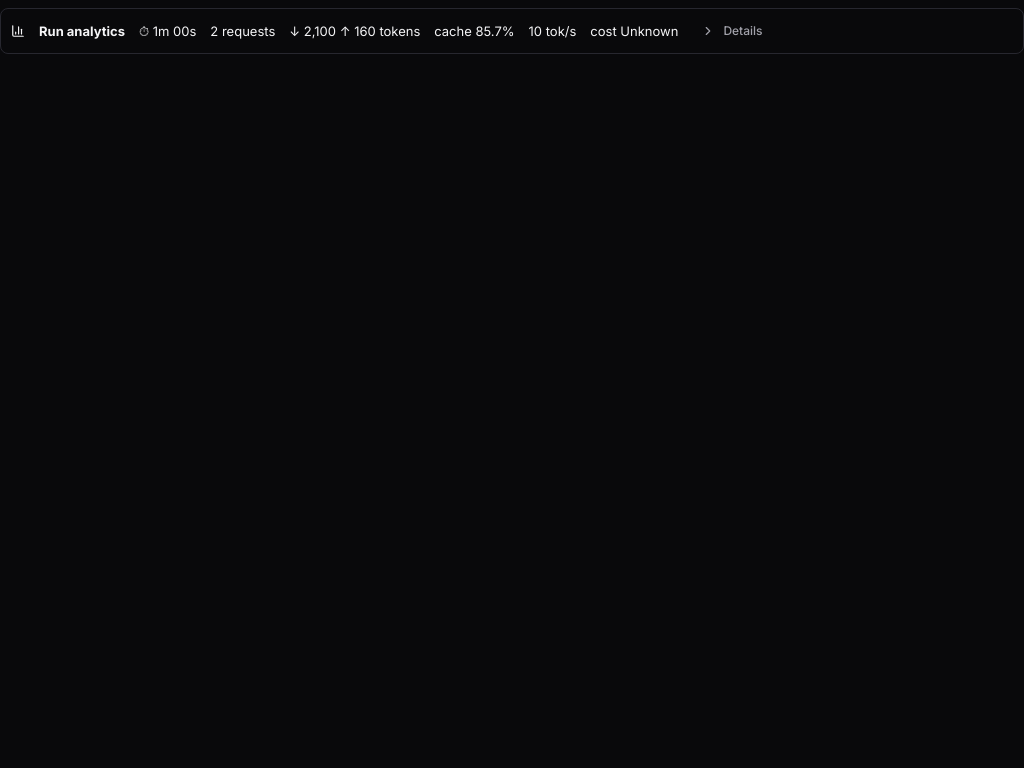
Run Analytics (M4.6) › export copies the versioned document and saving reports the path
Click the button "Details": [732, 31] box [692, 17, 772, 45]
(page scrolled)
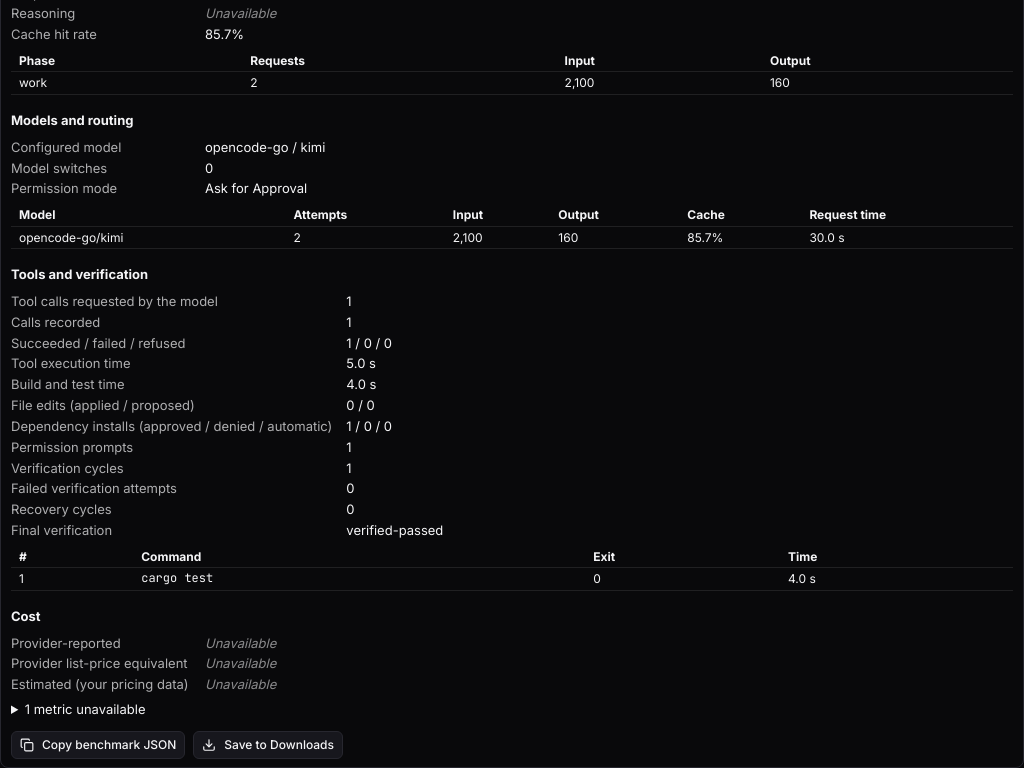
Click the button "Copy benchmark JSON": [98, 745] box [11, 731, 185, 759]
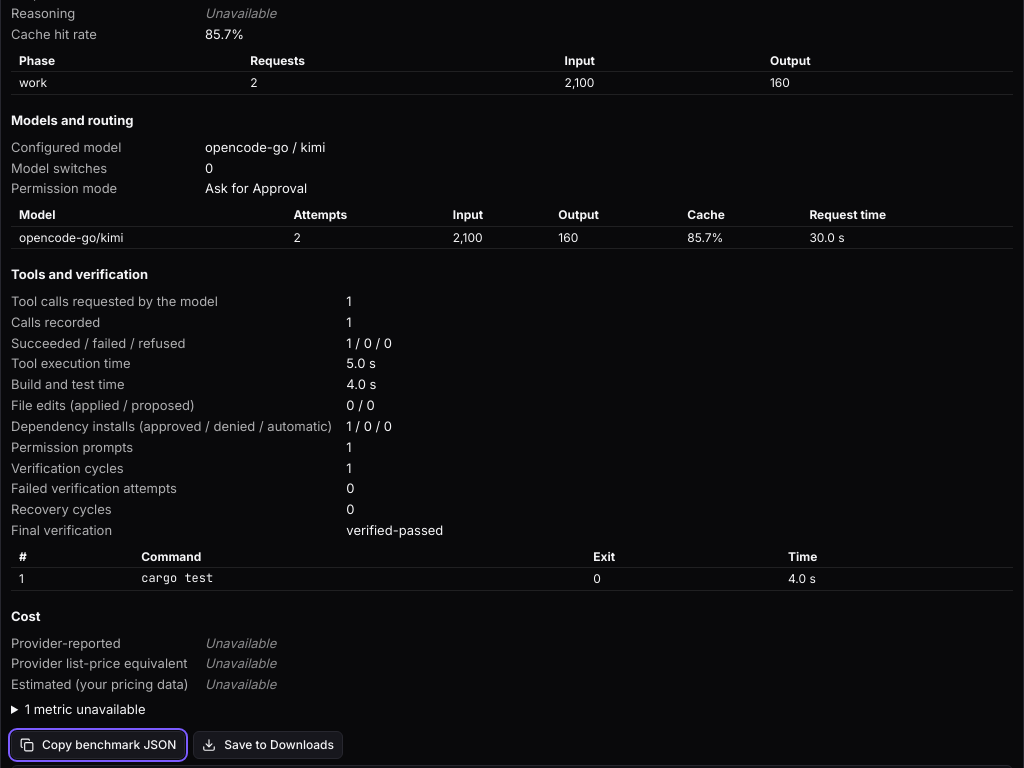
Click the button "Save to Downloads": [268, 745] box [193, 731, 343, 759]
(page scrolled)
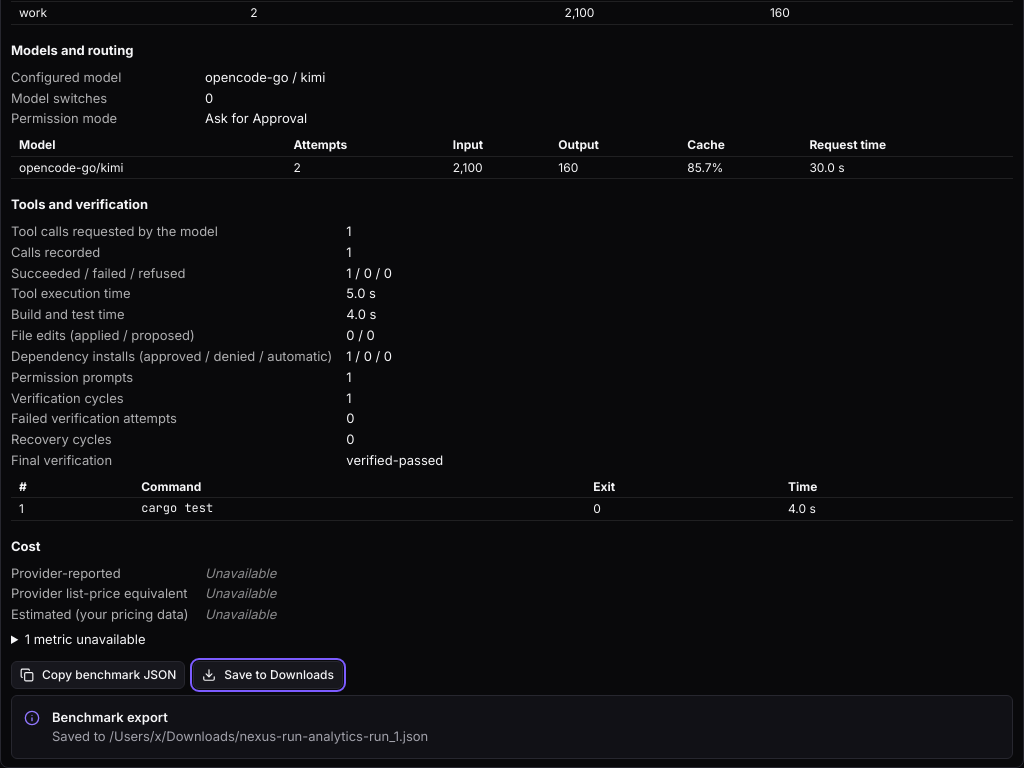
Now the text "Saved to /Users/x/Downloads/nexus-run-analytics-run_1.json" is shown, box [52, 727, 428, 746]
